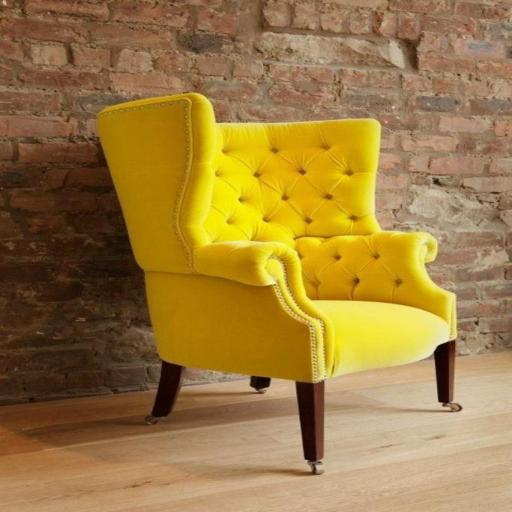chair: (96, 91, 462, 474)
wall: (0, 0, 512, 407)
